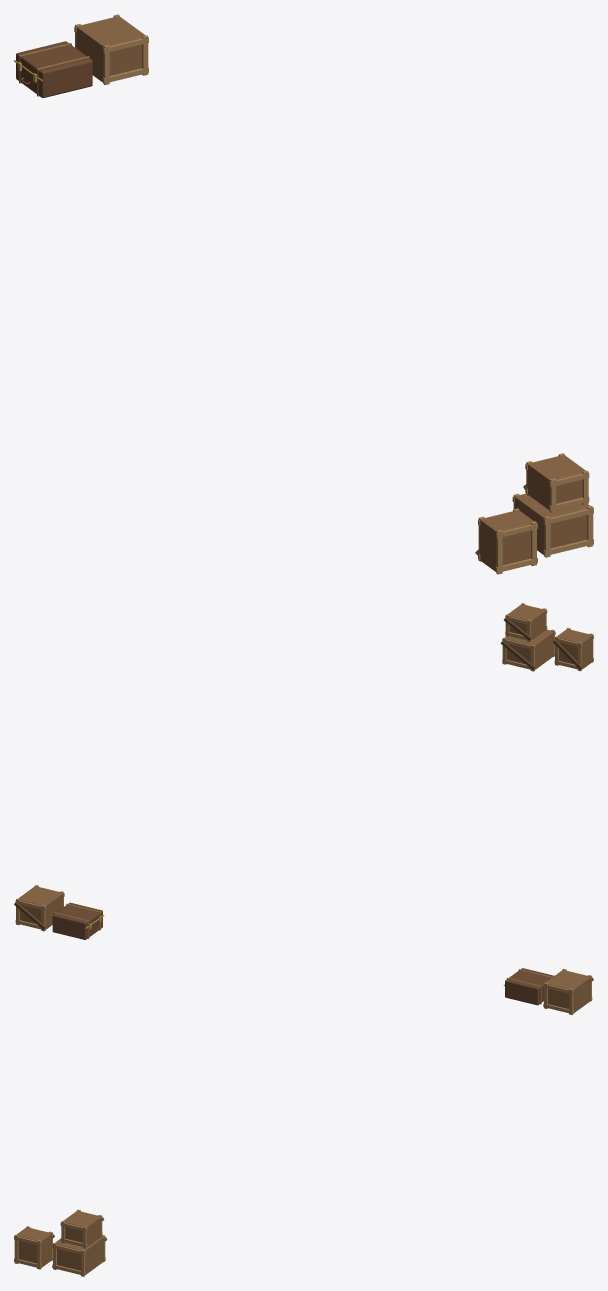
Rendered from SM_CP_WorkCrates.fbx.
3 views of the same model, one above another, from view 1: azimuth 30°, elevation 25°; view 2: azimuth 150°, elevation 25°; view 3: azimuth 330°, elevation 25° (orthographic). The views are drawn at different scales.
Parts seen in each view (by area): view 1: SM_CP_WorkCrates; view 2: SM_CP_WorkCrates; view 3: SM_CP_WorkCrates.
Boxes of the visible parts, <box> form: SM_CP_WorkCrates: <box>14,14,593,574</box>; SM_CP_WorkCrates: <box>14,603,593,939</box>; SM_CP_WorkCrates: <box>14,968,593,1276</box>.
Size of what is drawn, in the model's own units: 620 by 2671 by 170.
